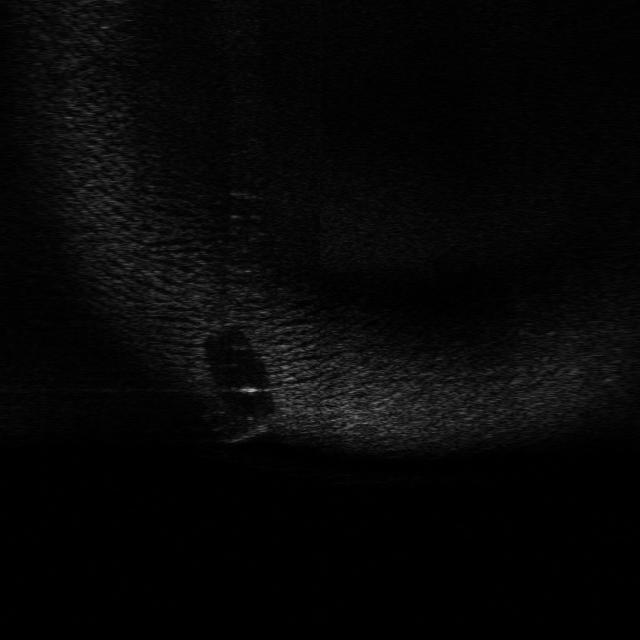cube: (202, 403, 272, 445)
